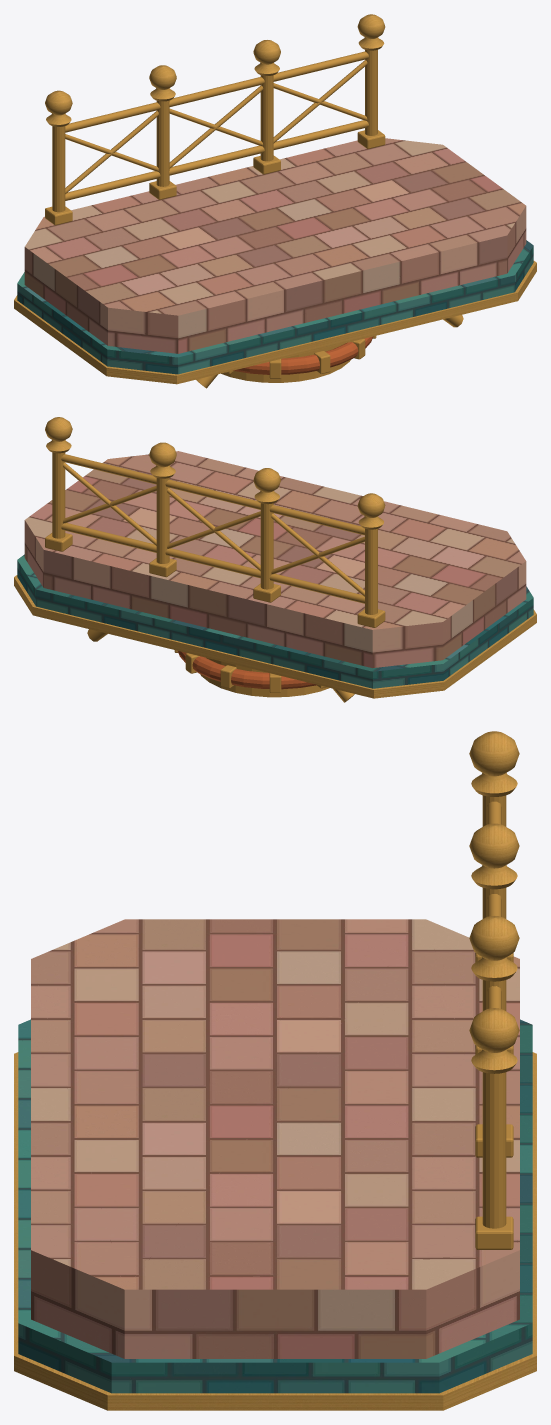
Rendered from act2_rear_bridge.glb.
3 views of the same model, one above another, from view 1: azimuth 30°, elevation 25°; view 2: azimuth 150°, elevation 25°; view 3: azimuth 270°, elevation 25° (orthographic). The views are drawn at different scales.
Visible parts, largest first — view 1: ANIM_Act2_RearBridge_Mesh; view 2: ANIM_Act2_RearBridge_Mesh; view 3: ANIM_Act2_RearBridge_Mesh.
Part boxes in pixels (x1,y1,x2,y2): ANIM_Act2_RearBridge_Mesh: [14, 14, 536, 388]; ANIM_Act2_RearBridge_Mesh: [14, 417, 536, 702]; ANIM_Act2_RearBridge_Mesh: [14, 731, 536, 1410].
Bounding box in the file's own units: 2.12 × 1.18 × 1.23.
4 materials, 4 textured.
